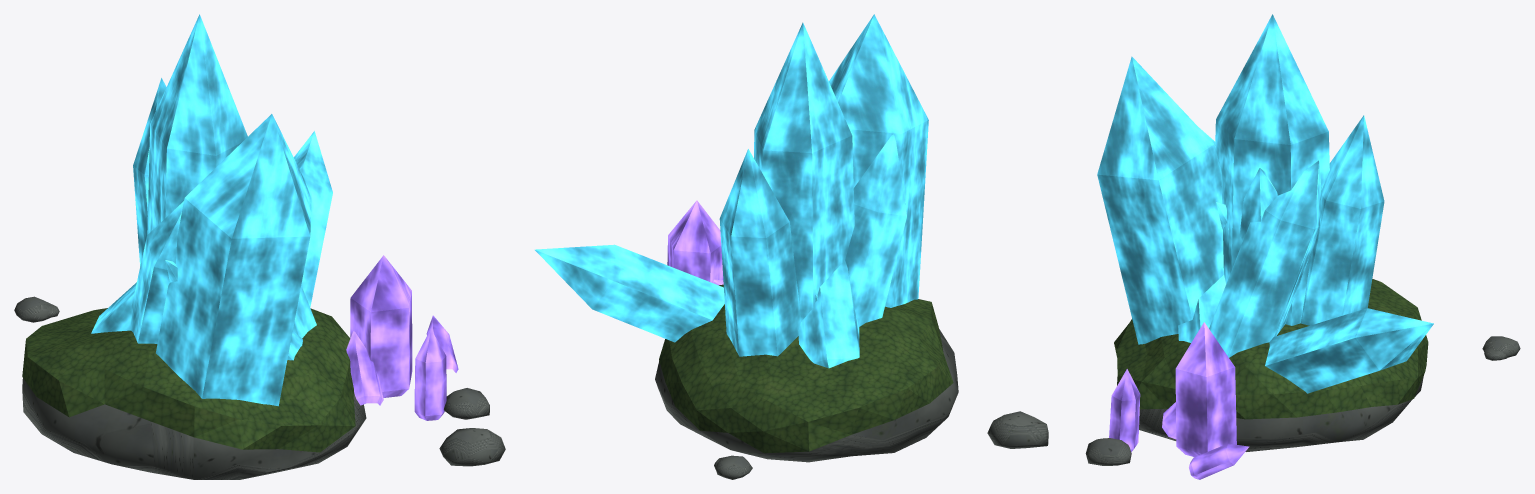
Rendered from bioluminescent_crystal_cluster.glb.
3 views of the same model, side by side, from view 1: azimuth 30°, elevation 25°; view 2: azimuth 150°, elevation 25°; view 3: azimuth 270°, elevation 25° (orthographic). The views are drawn at different scales.
Visible parts, largest first — view 1: bioluminescent_crystal_cluster__crystal_cyan, bioluminescent_crystal_cluster__moss, bioluminescent_crystal_cluster__stone_dark, bioluminescent_crystal_cluster__crystal_violet; view 2: bioluminescent_crystal_cluster__crystal_cyan, bioluminescent_crystal_cluster__moss, bioluminescent_crystal_cluster__stone_dark, bioluminescent_crystal_cluster__crystal_violet; view 3: bioluminescent_crystal_cluster__crystal_cyan, bioluminescent_crystal_cluster__moss, bioluminescent_crystal_cluster__crystal_violet, bioluminescent_crystal_cluster__stone_dark.
Boxes of the visible parts, left/top/right/bottom form: bioluminescent_crystal_cluster__crystal_cyan: left=91, top=14, right=332, bottom=406; bioluminescent_crystal_cluster__moss: left=22, top=308, right=355, bottom=452; bioluminescent_crystal_cluster__stone_dark: left=14, top=296, right=505, bottom=479; bioluminescent_crystal_cluster__crystal_violet: left=346, top=255, right=458, bottom=420; bioluminescent_crystal_cluster__crystal_cyan: left=535, top=14, right=928, bottom=368; bioluminescent_crystal_cluster__moss: left=659, top=284, right=953, bottom=453; bioluminescent_crystal_cluster__stone_dark: left=655, top=329, right=958, bottom=479; bioluminescent_crystal_cluster__crystal_violet: left=667, top=200, right=723, bottom=285; bioluminescent_crystal_cluster__crystal_cyan: left=1097, top=14, right=1433, bottom=393; bioluminescent_crystal_cluster__moss: left=1114, top=279, right=1428, bottom=419; bioluminescent_crystal_cluster__crystal_violet: left=1109, top=322, right=1249, bottom=479; bioluminescent_crystal_cluster__stone_dark: left=987, top=336, right=1520, bottom=465.
Bounding box in the file's own units: 1.91 × 1.91 × 2.43.
4 materials, 4 textured.
